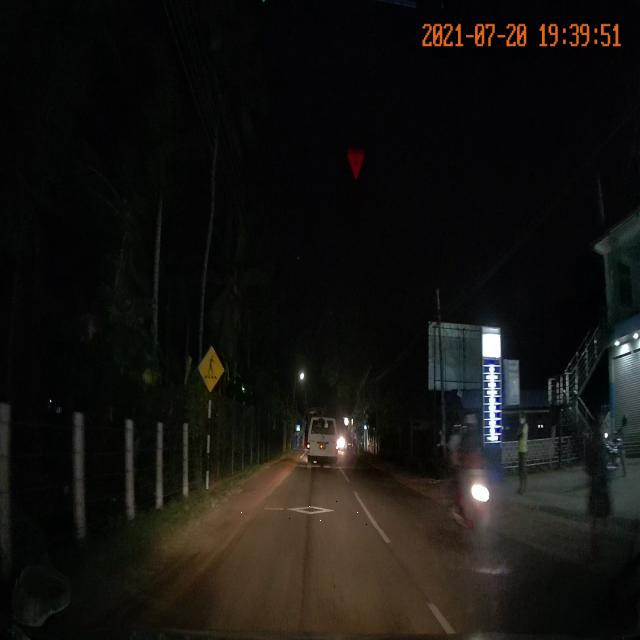diamond: (237, 495, 383, 529)
